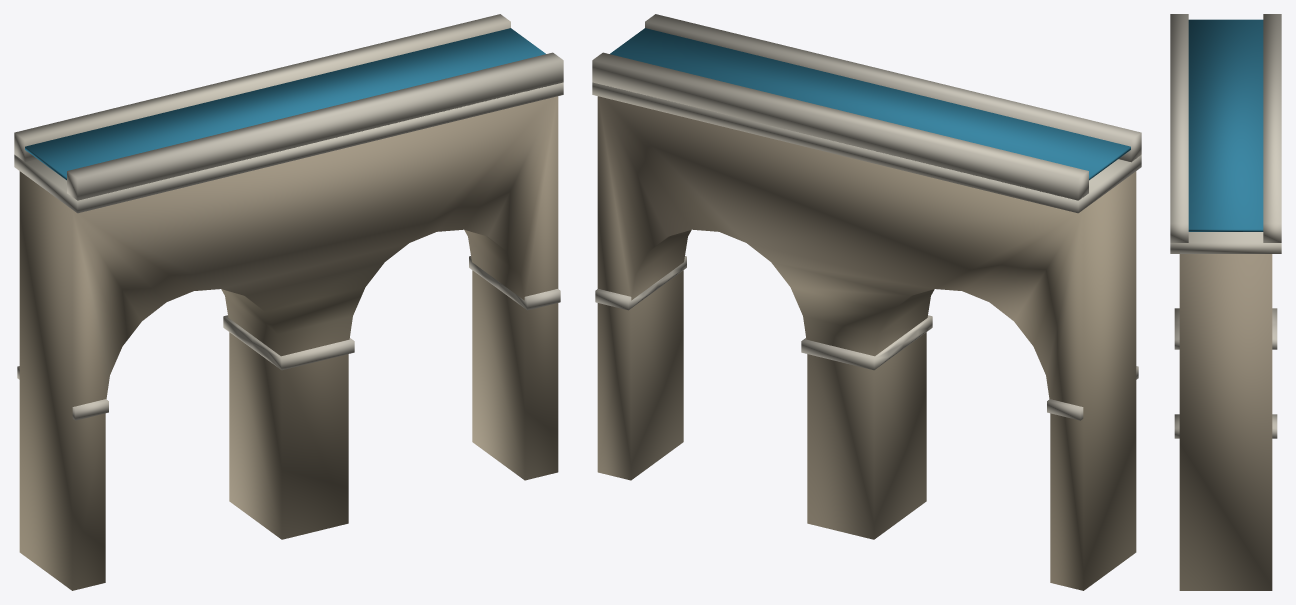
Rendered from civic_aqueduct.glb.
The picture shows the model from 3 angles, left to right: view 1: azimuth 30°, elevation 25°; view 2: azimuth 150°, elevation 25°; view 3: azimuth 270°, elevation 25°; orthographic projection. The views are drawn at different scales.
Parts seen in each view (by area): view 1: stone, step, water.001, marble; view 2: stone, step, water.001, marble; view 3: stone, water.001, step, marble.
Boxes of the visible parts, <box> form: stone: <box>19,96,558,590</box>; step: <box>14,14,563,213</box>; water.001: <box>25,28,545,180</box>; marble: <box>17,256,560,420</box>; stone: <box>597,96,1136,590</box>; step: <box>592,14,1141,213</box>; water.001: <box>610,28,1130,180</box>; marble: <box>595,256,1138,420</box>; stone: <box>1179,254,1272,590</box>; water.001: <box>1188,19,1263,231</box>; step: <box>1170,14,1281,253</box>; marble: <box>1174,308,1277,438</box>.
Bounding box in the file's own units: 8 × 6.55 × 1.8.
